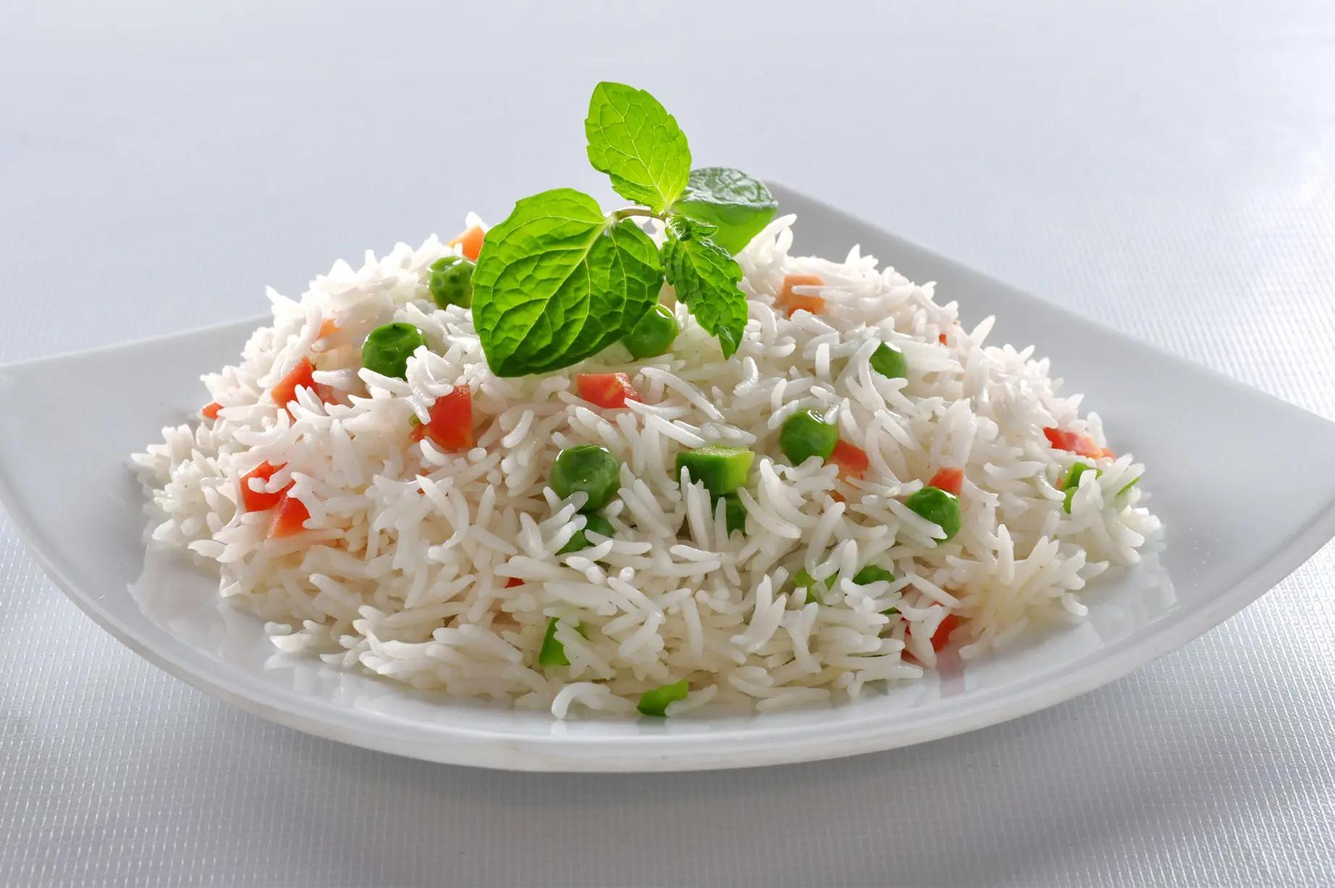rice: (127, 217, 1178, 713)
